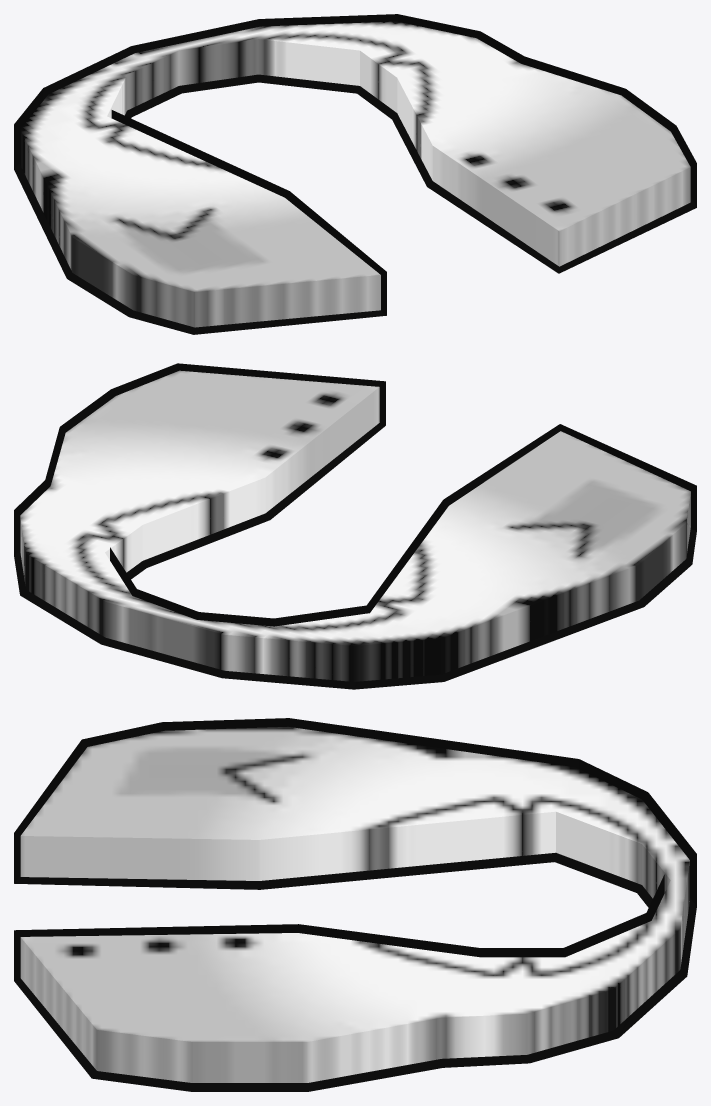
The model's file is Item_Apparel_LabCoat_Things_Pawn_Humanlike_Apparel_LabCoat_LabCoat_Fat.glb.
3 renders of one model, top to bottom at view 1: azimuth 30°, elevation 25°; view 2: azimuth 150°, elevation 25°; view 3: azimuth 270°, elevation 25°, orthographic. The views are drawn at different scales.
Parts seen in each view (by area): view 1: Body, Outline; view 2: Body, Outline; view 3: Body, Outline.
Boxes of the visible parts, <box> form: Body: <box>20,21,690,327</box>; Outline: <box>14,14,696,334</box>; Body: <box>20,370,690,681</box>; Outline: <box>14,363,696,689</box>; Body: <box>20,727,689,1082</box>; Outline: <box>14,718,696,1091</box>.
Size of the model in its own units: 0.6209 by 0.0499 by 0.558.
2 materials, 1 textured.
